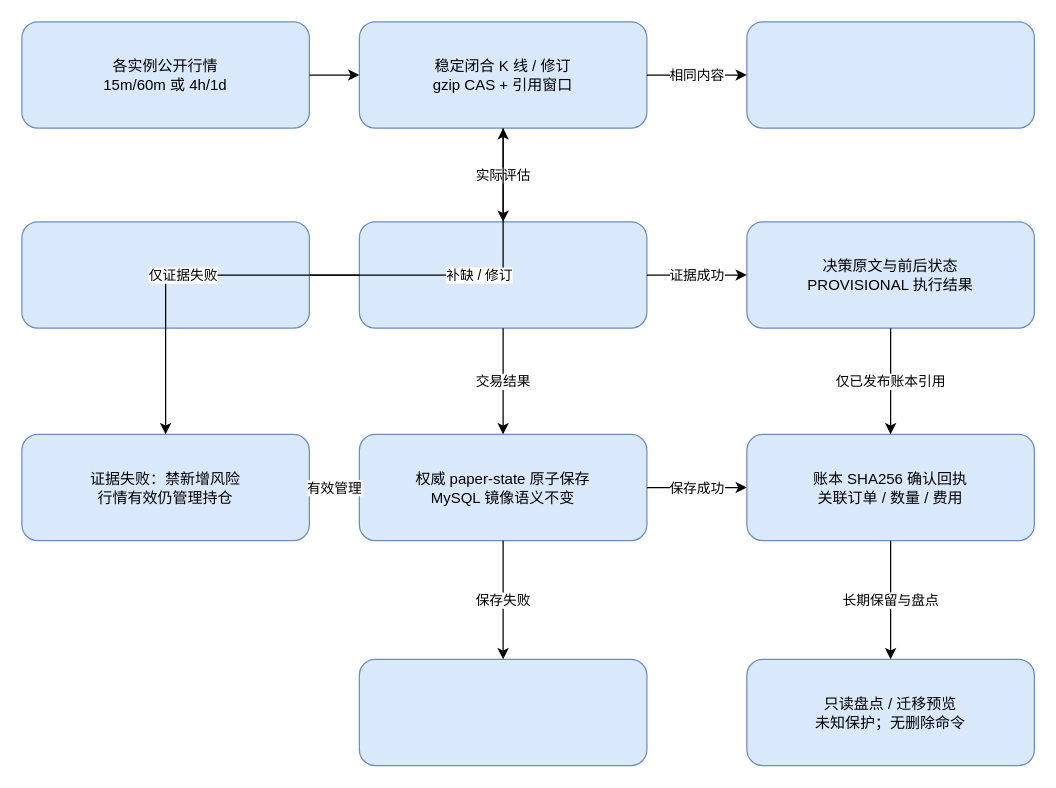
This 1056x788 diagram has some shape labels left out. Here are the shapes that lost their labels. From the top down, the box of each, then its label:
(746, 21, 1034, 128): 同窗口无决策 仅有界观测状态
(21, 221, 309, 328): 独立分页补采线程 完整且落盘才推进检查点
(358, 221, 647, 328): 新 bar 实际评估 原入场 / 持仓管理公式
(358, 658, 647, 766): 账本失败：明确故障 先重试保存，暂停新执行
